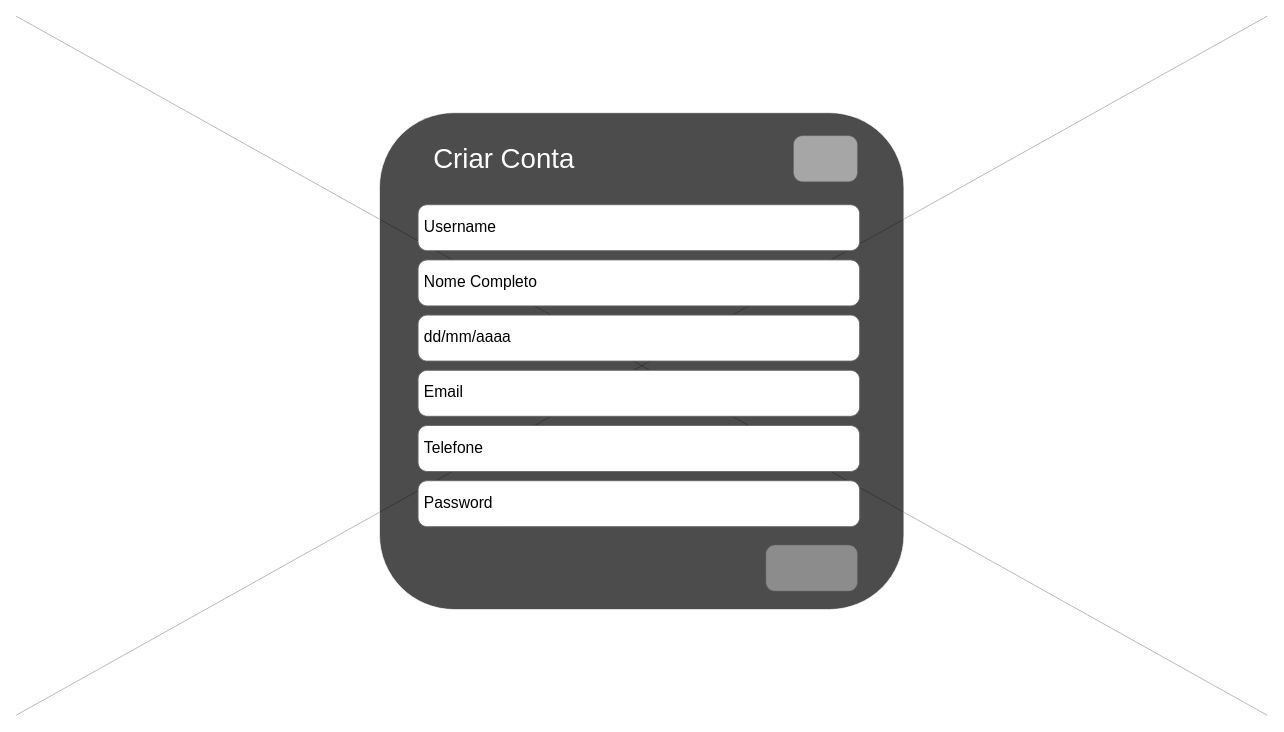
This 1284x732 diagram has some shape labels left out. The shapes that lost their labels are listed below. From the top down, each one's centre as x and y in pixels, then its label:
the point at 825,158: Login
the point at 811,567: Criar
